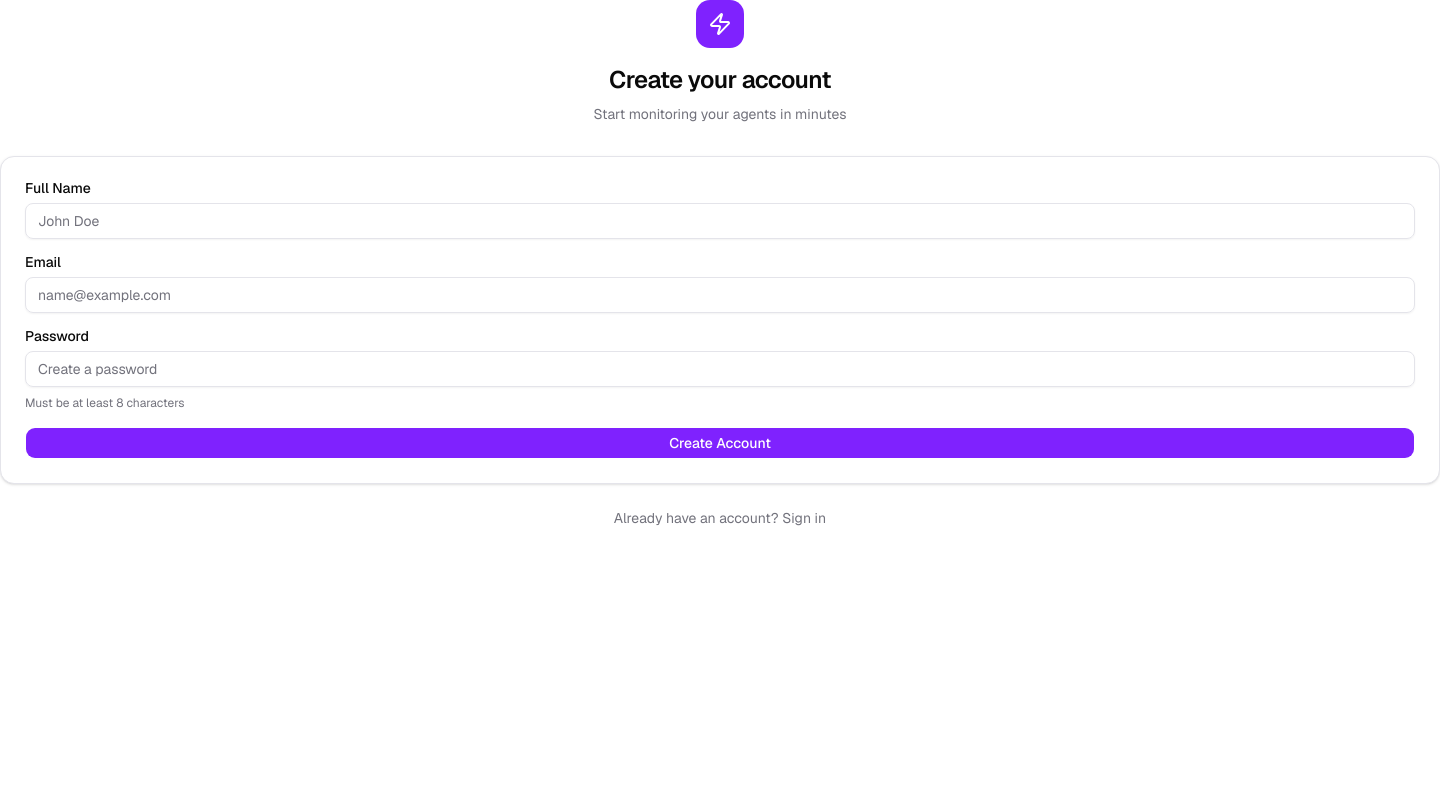
it: SignUpForm › displays API error on signup failure
Step 1. Type "taken@test.com" into the field labelled "Email" → (720, 295), box [25,277,1415,313]
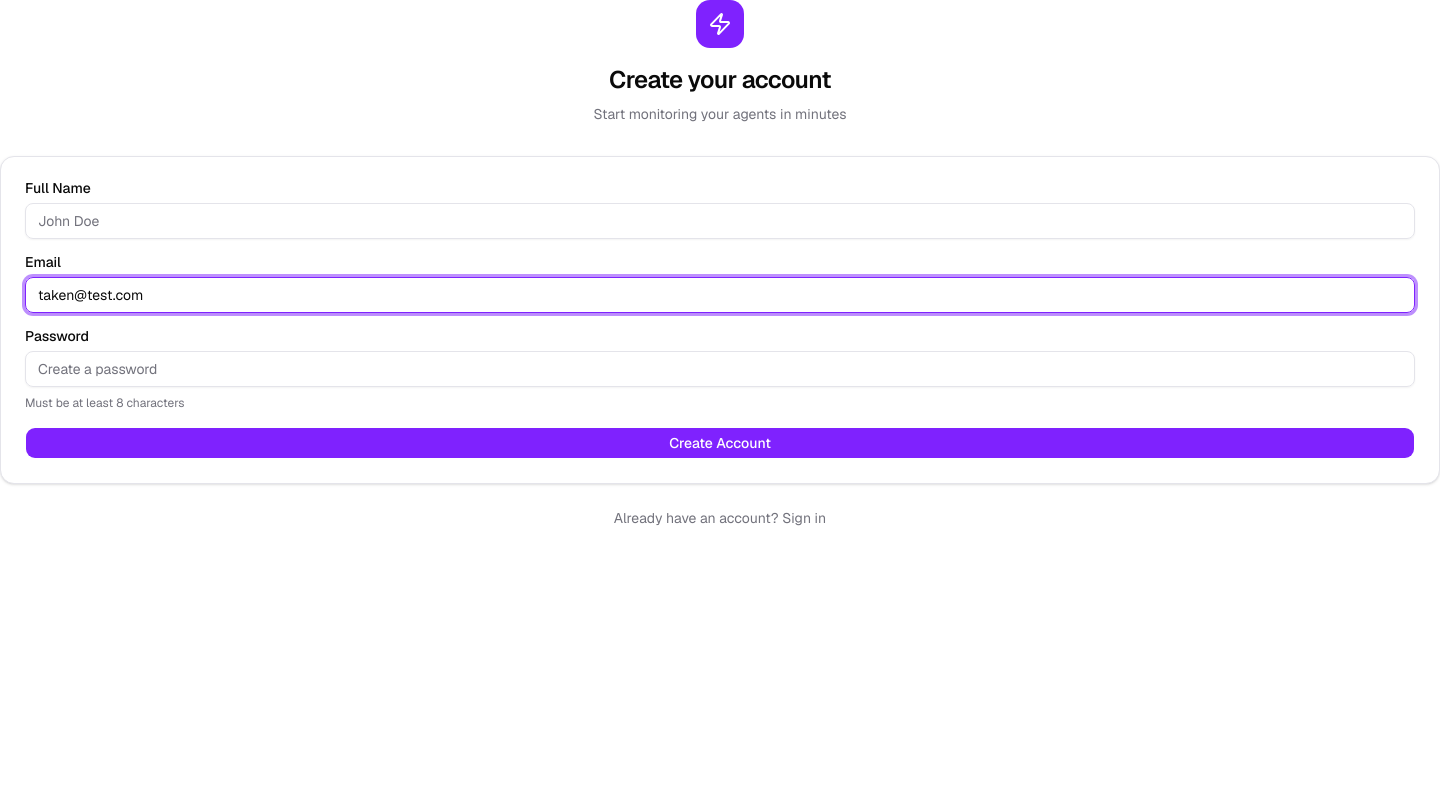
Step 2. Type "password123" into the password field labelled "Password" → (720, 369), box [25,351,1415,387]
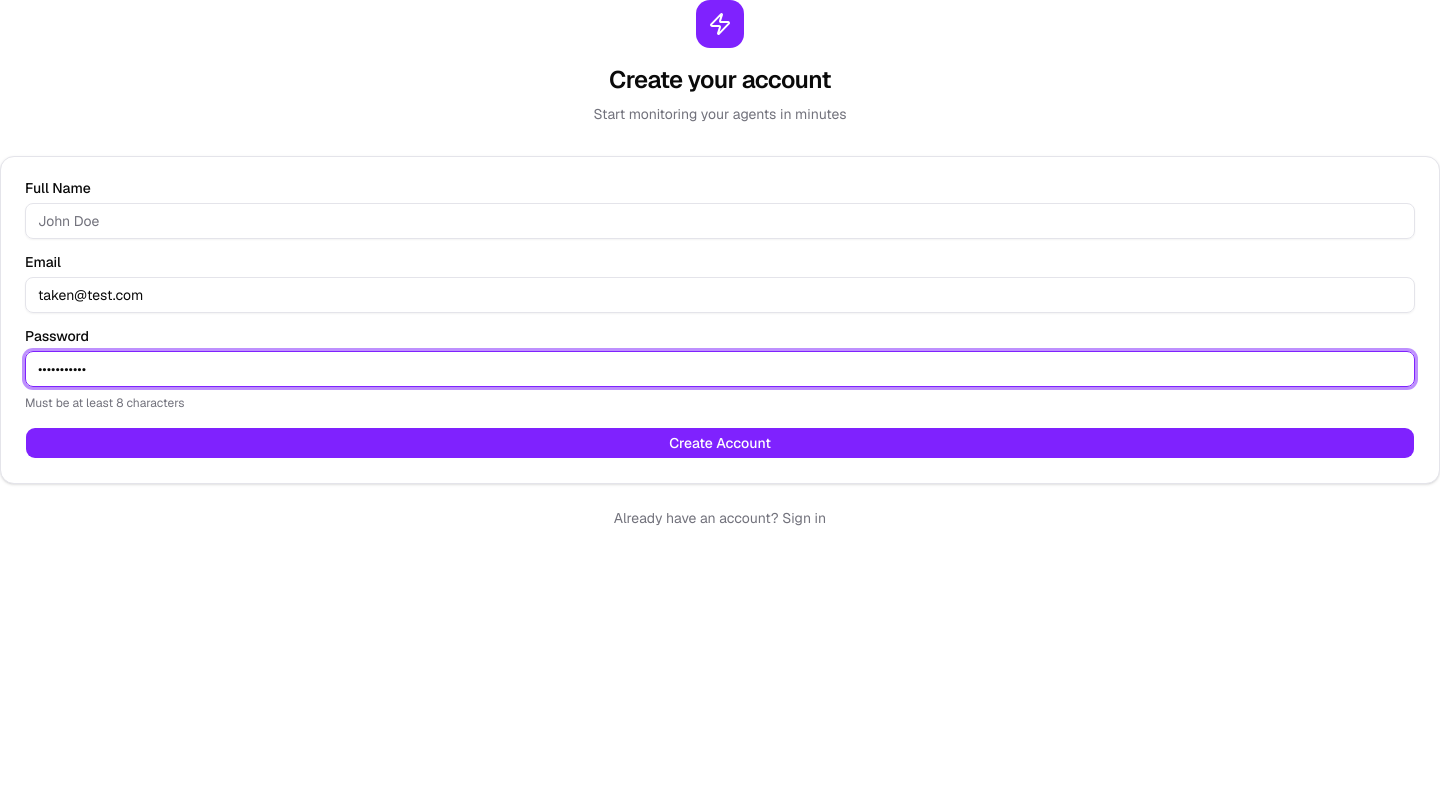
Step 3. Click the button "Create Account" → (720, 443), box [25,427,1415,459]
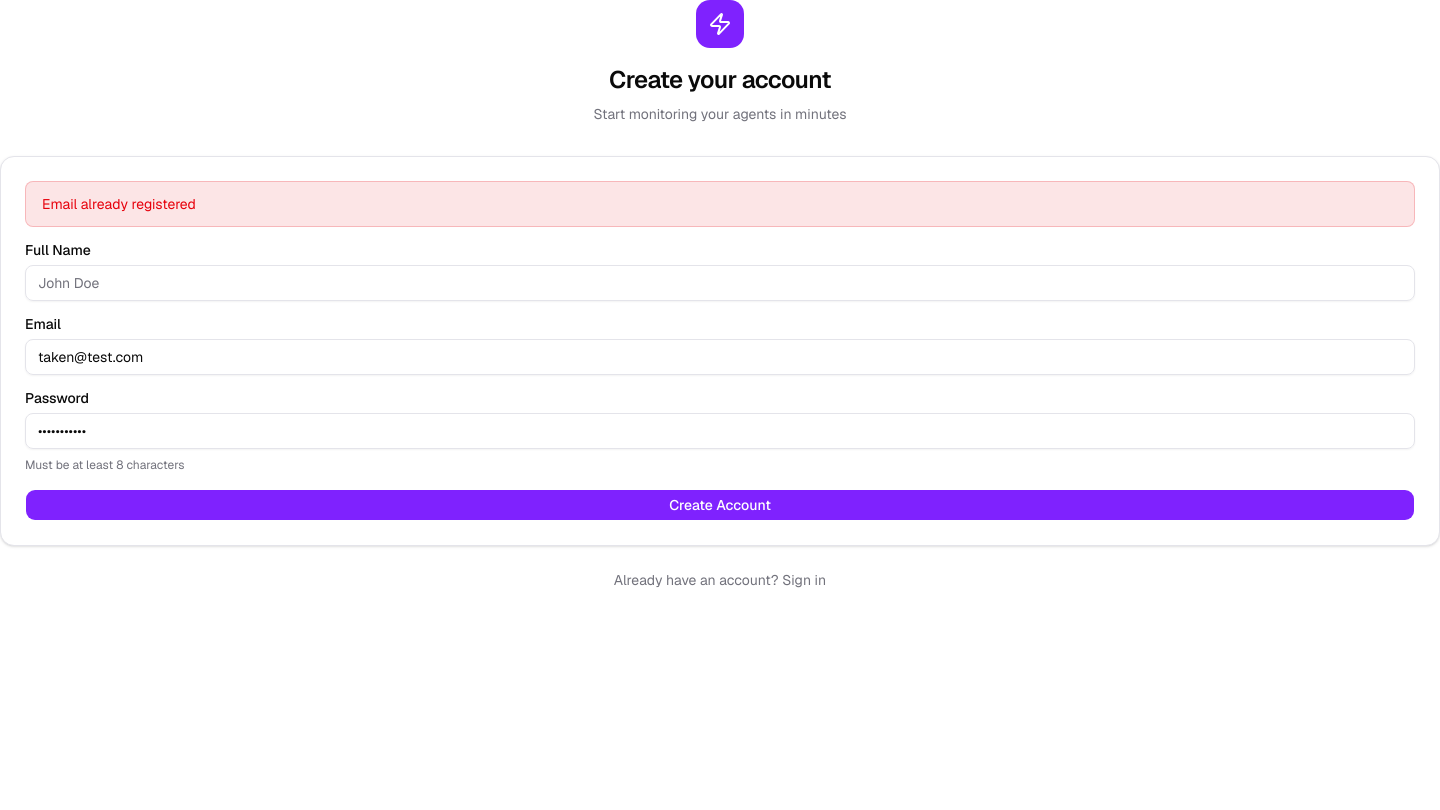
expect the text "Email already registered" is shown: met, box [25,181,1415,227]
